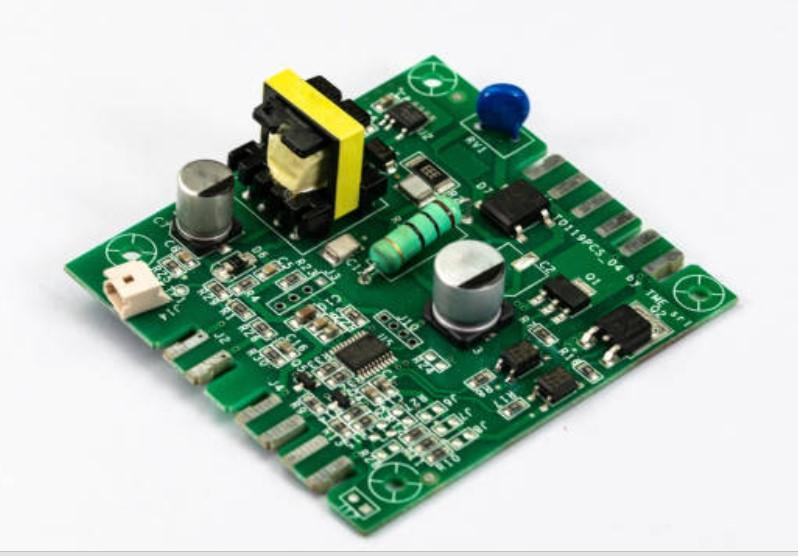Printed Circuit Board PCB: (63, 56, 739, 537)
